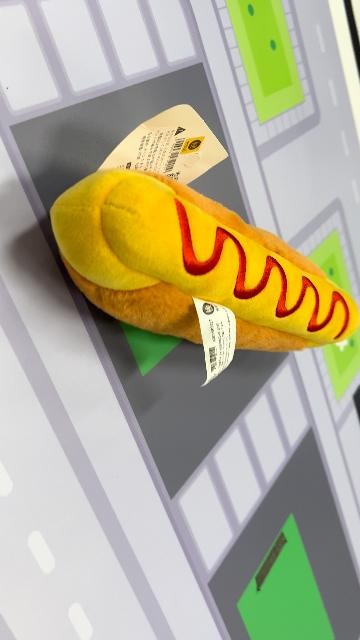hotdog: (50, 167, 358, 356)
